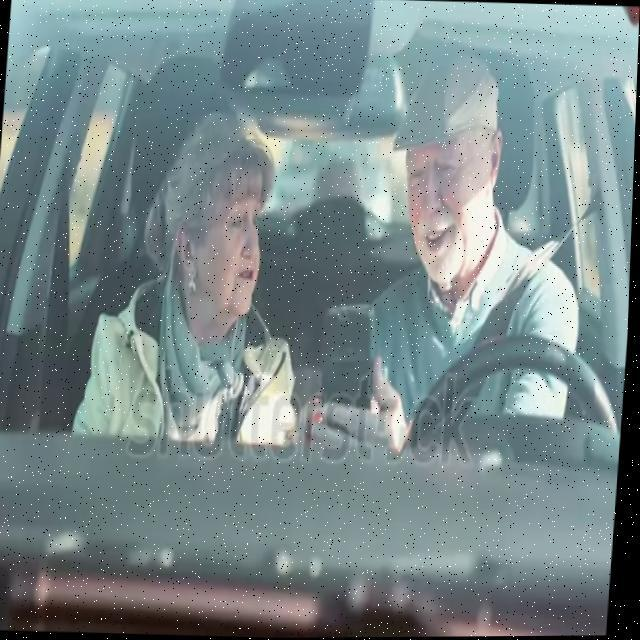PhoneCall: (316, 302, 380, 436)
